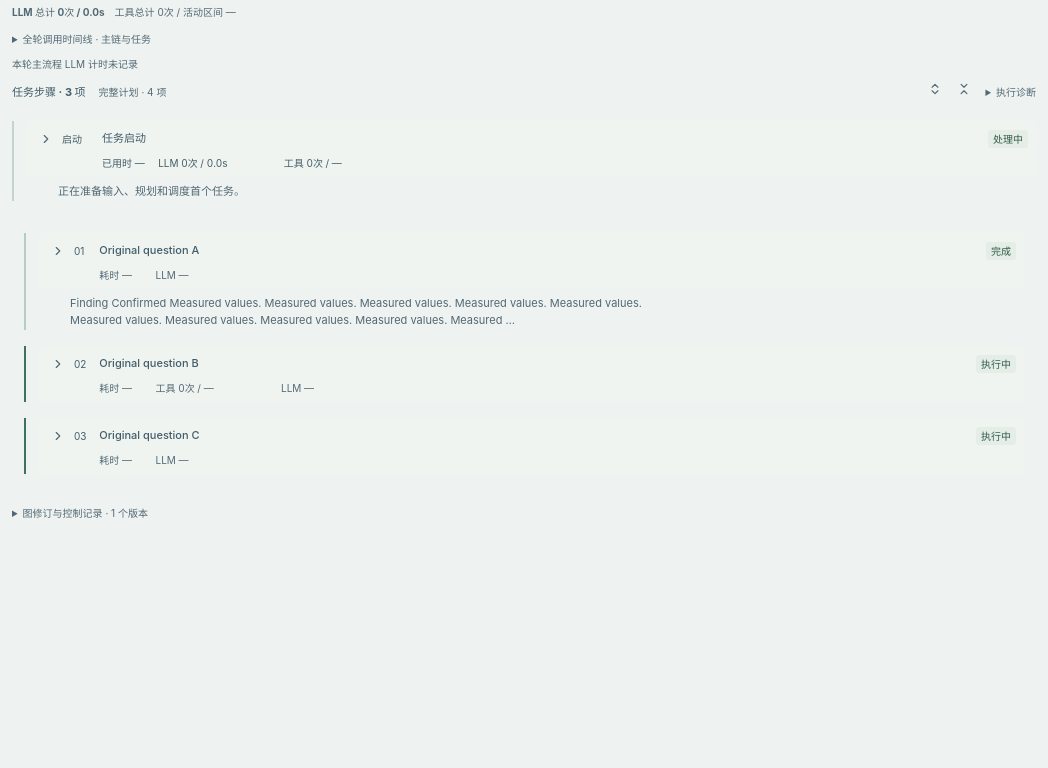
Test case: actual graph process reader › reveals actual started steps progressively and retains future steps in an optional plan
Expected: the element "Original question A" is shown, [24,233,1024,330]
Expected: the element "Original question C" is shown, [24,418,1024,474]
Click the button with aria-label "查看完整计划" at (132, 92), box [94,81,171,103]
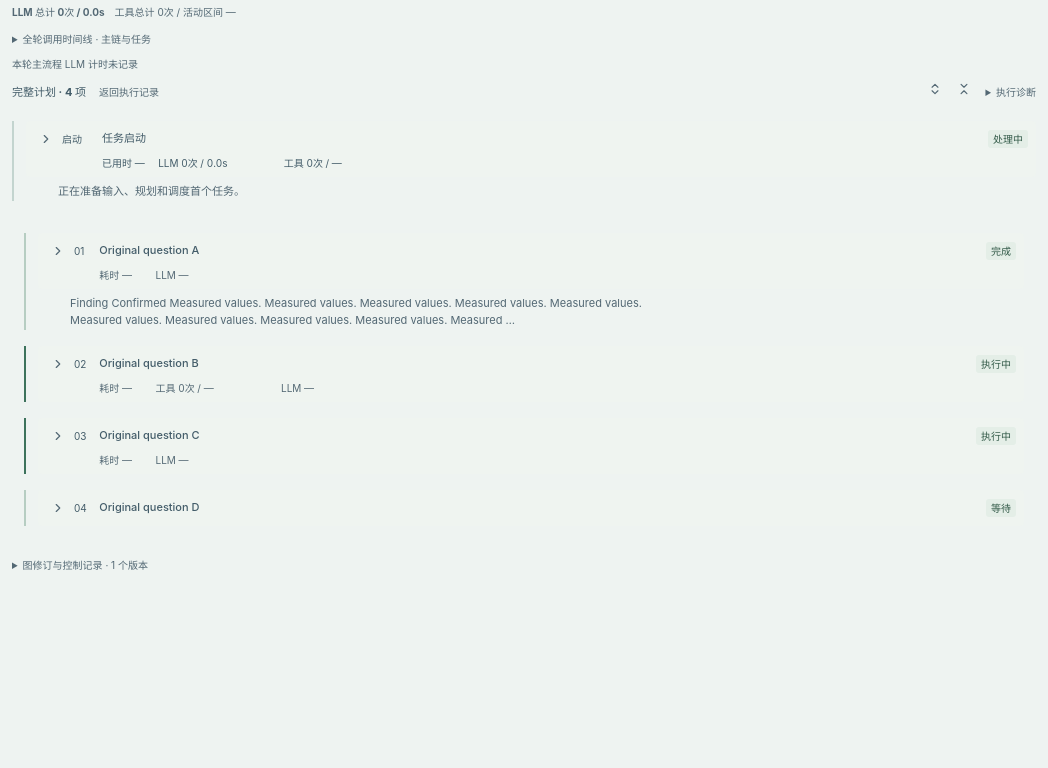
Expected: the element "Original question D" is shown, [24,490,1024,526]
